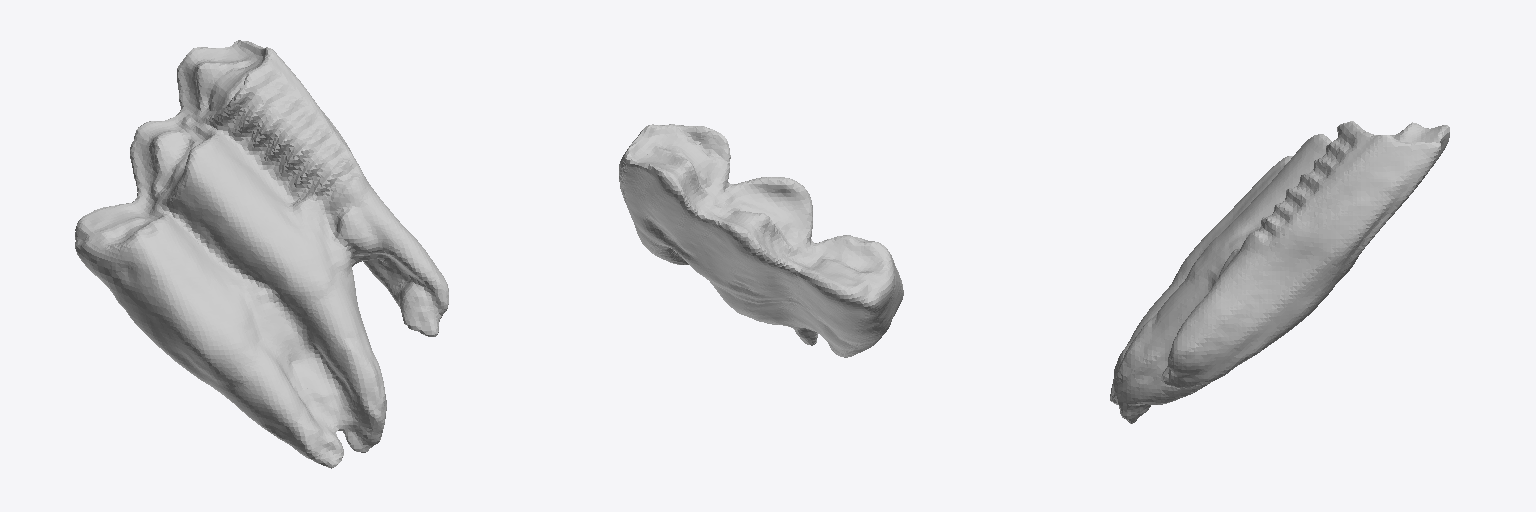
The model's file is MB Gaz 1 M3.obj.
The picture shows the model from 3 angles: view 1: azimuth 30°, elevation 25°; view 2: azimuth 150°, elevation 25°; view 3: azimuth 270°, elevation 25°; orthographic projection.
Bounding box in the file's own units: 23.38 × 23.81 × 23.98.